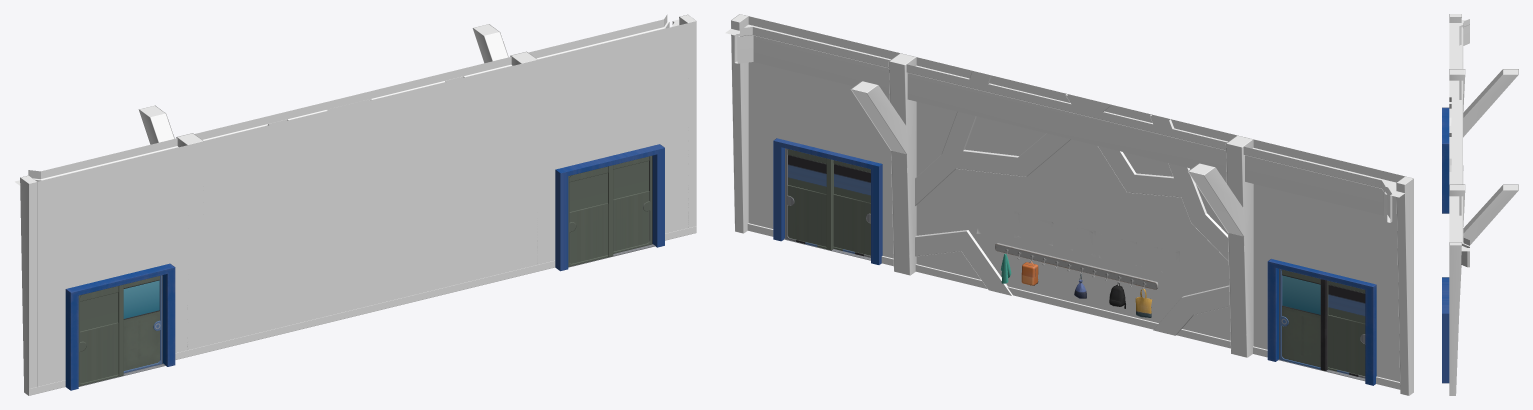
The model's file is a_sch_2_class1_hallwaywall01.gltf.
3 renders of one model, left to right at view 1: azimuth 30°, elevation 25°; view 2: azimuth 150°, elevation 25°; view 3: azimuth 270°, elevation 25°, orthographic. The views are drawn at different scales.
Parts seen in each view (by area): view 1: um_a_sch_2_class1_hallwaywall01_model_a_sch_2_class1_hallway (×6); view 2: um_a_sch_2_class1_hallwaywall01_model_a_sch_2_class1_hallway (×11); view 3: um_a_sch_2_class1_hallwaywall01_model_a_sch_2_class1_hallway (×5).
Part boxes in pixels (left/top/right/bottom): um_a_sch_2_class1_hallwaywall01_model_a_sch_2_class1_hallway (×6): left=20, top=14, right=696, bottom=395; um_a_sch_2_class1_hallwaywall01_model_a_sch_2_class1_hallway (×11): left=725, top=14, right=1413, bottom=395; um_a_sch_2_class1_hallwaywall01_model_a_sch_2_class1_hallway (×5): left=1442, top=14, right=1518, bottom=395.
Bounding box in the file's own units: 15 × 4.55 × 2.1.
Materials: 11 (3 with a texture image).
